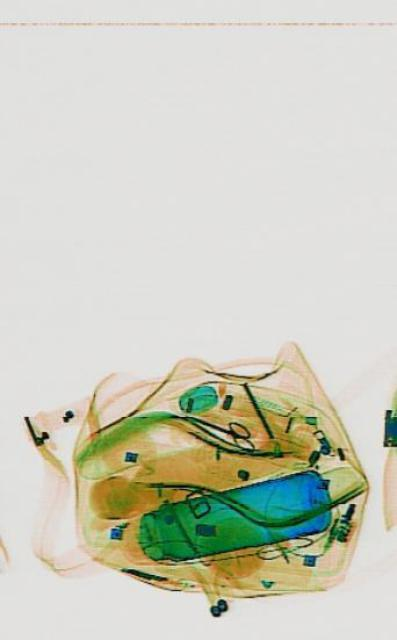Scissors: (178, 403, 255, 455)
